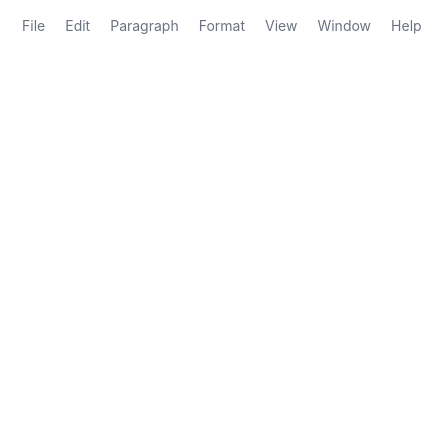
Scenario: MenuBar › 点击打开下拉面板，面板左缘与菜单项对齐（left-0 top-full）
Click the button "File". click: (34, 26)
box: [12, 12, 55, 40]
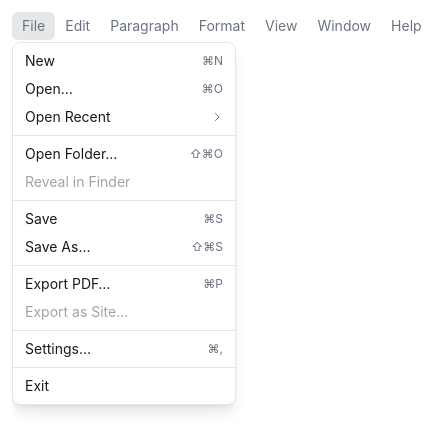
Expected: the text "New" is shown, [25, 52, 55, 69]
Expected: the text "Open…" is shown, [25, 80, 73, 97]
